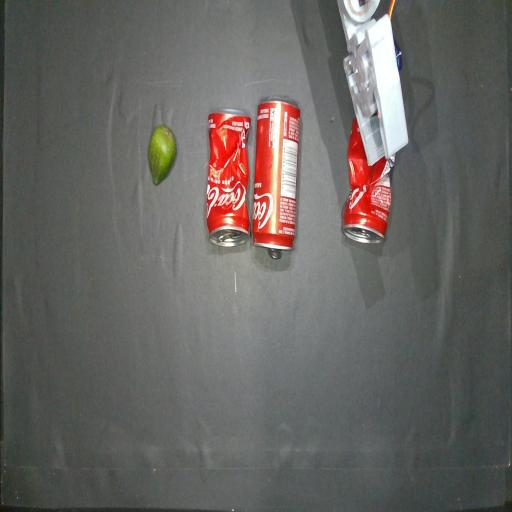higo: (148, 125, 176, 185)
lata: (252, 97, 301, 258)
lata_defectuoso: (342, 119, 395, 243), (206, 111, 250, 246)
